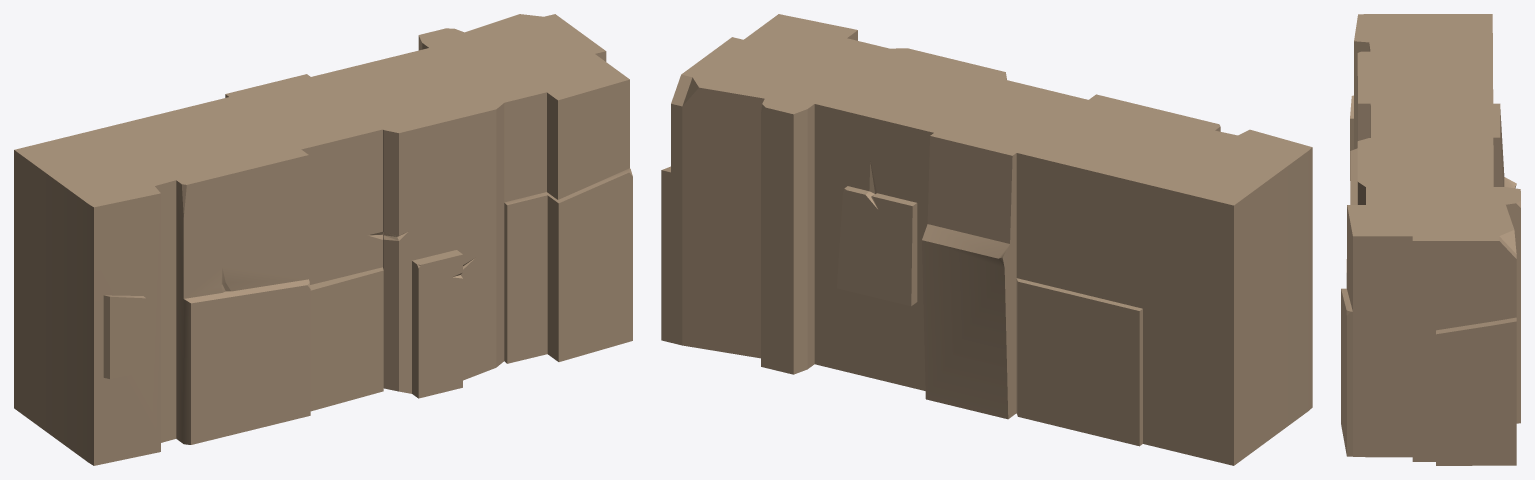
Rendered from wall4.FBX.
The picture shows the model from 3 angles, left to right: view 1: azimuth 30°, elevation 25°; view 2: azimuth 150°, elevation 25°; view 3: azimuth 270°, elevation 25°; orthographic projection. The views are drawn at different scales.
Parts seen in each view (by area): view 1: wall; view 2: wall; view 3: wall.
Part boxes in pixels (box(x1,y1,x2,y2)): wall: box(14, 14, 632, 465); wall: box(661, 14, 1312, 465); wall: box(1341, 14, 1520, 465).
Bounding box in the file's own units: 62.67 × 28.5 × 20.63.
